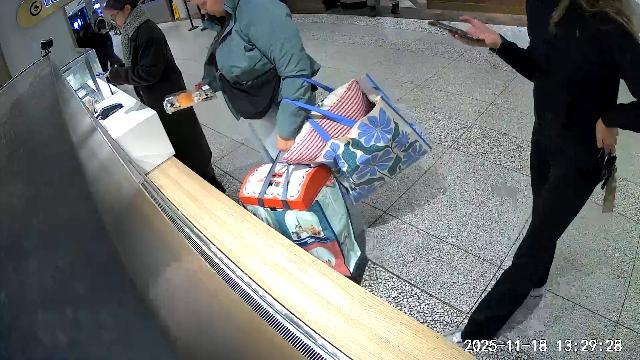sushi-box: (163, 85, 218, 114)
